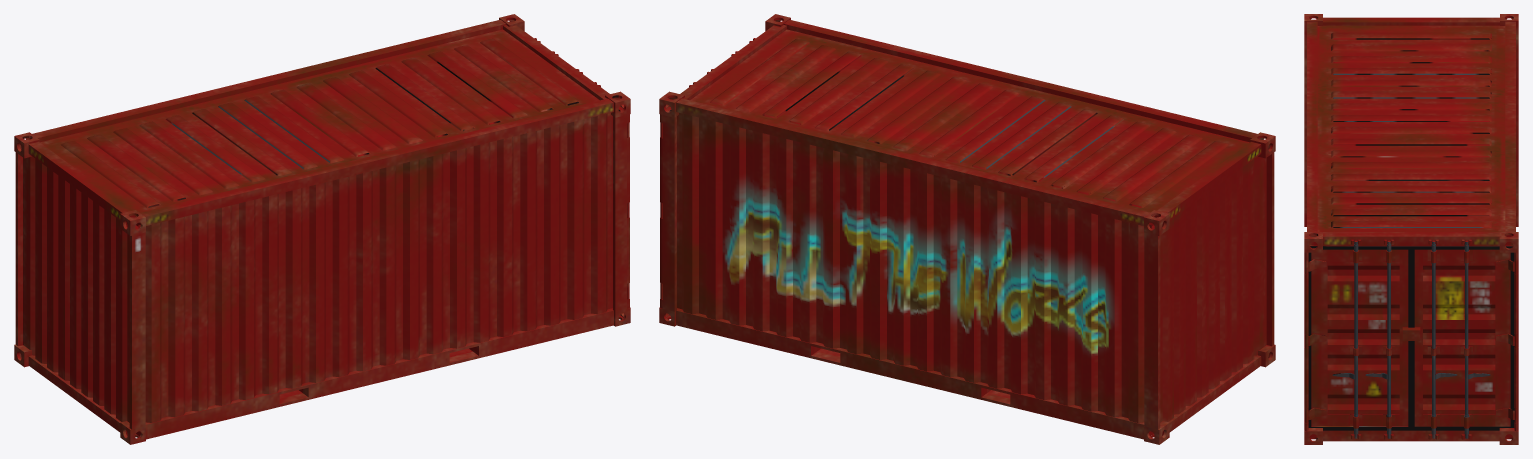
File: kontejner_20_cerveny.glb
The picture shows the model from 3 angles, left to right: view 1: azimuth 30°, elevation 25°; view 2: azimuth 150°, elevation 25°; view 3: azimuth 270°, elevation 25°; orthographic projection. The views are drawn at different scales.
Visible parts, largest first — view 1: kontejner_20_cerveny; view 2: kontejner_20_cerveny; view 3: kontejner_20_cerveny.
Part boxes in pixels (x1,y1,x2,y2): kontejner_20_cerveny: (14, 14, 630, 444); kontejner_20_cerveny: (659, 14, 1275, 444); kontejner_20_cerveny: (1304, 14, 1518, 444).
Size of the model in its own units: 6.06 by 2.59 by 2.44.
Materials: 1 (1 with a texture image).
